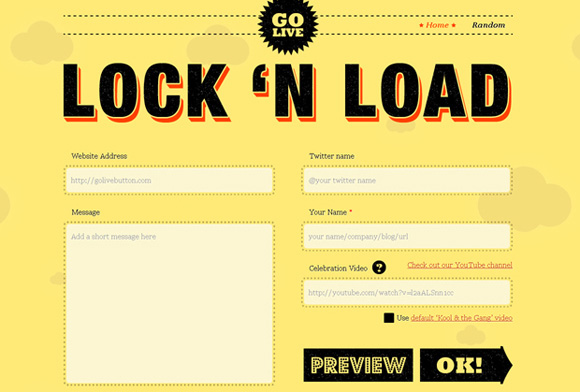_form_: (15, 103, 330, 392), (237, 103, 552, 392)
button: (303, 348, 414, 382), (419, 347, 514, 382)
checkbox: (383, 311, 395, 324)
checkbox_with_label: (297, 153, 517, 198), (297, 209, 516, 254), (300, 264, 516, 309), (62, 152, 276, 197), (383, 311, 515, 325)
field: (61, 219, 276, 386), (301, 275, 515, 308), (300, 164, 515, 196), (300, 220, 514, 252), (63, 165, 275, 196)
field_with_label: (59, 208, 277, 388)
